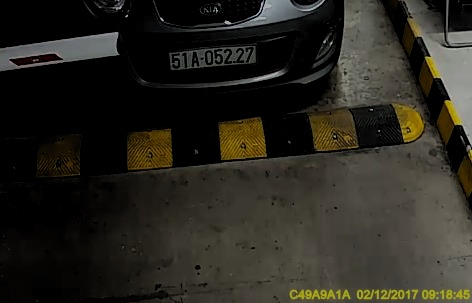plate: (170, 40, 257, 69)
